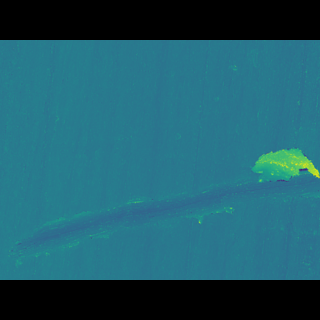Loch: (2, 147, 320, 237), (243, 148, 320, 179)
